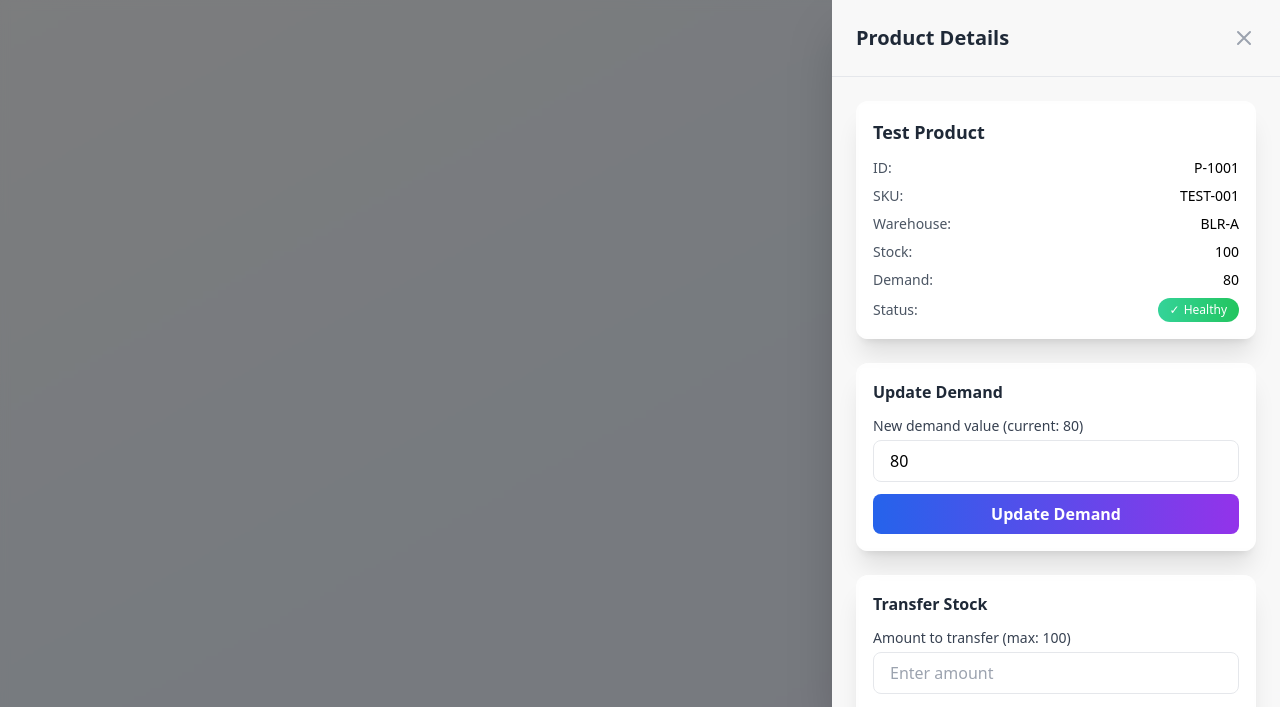
Test: Drawer › Form validation › should validate demand input
Replace the text in the number field labelled "New demand value (current: 80)" with "-10". click: (1056, 461)
box: [873,440,1239,482]
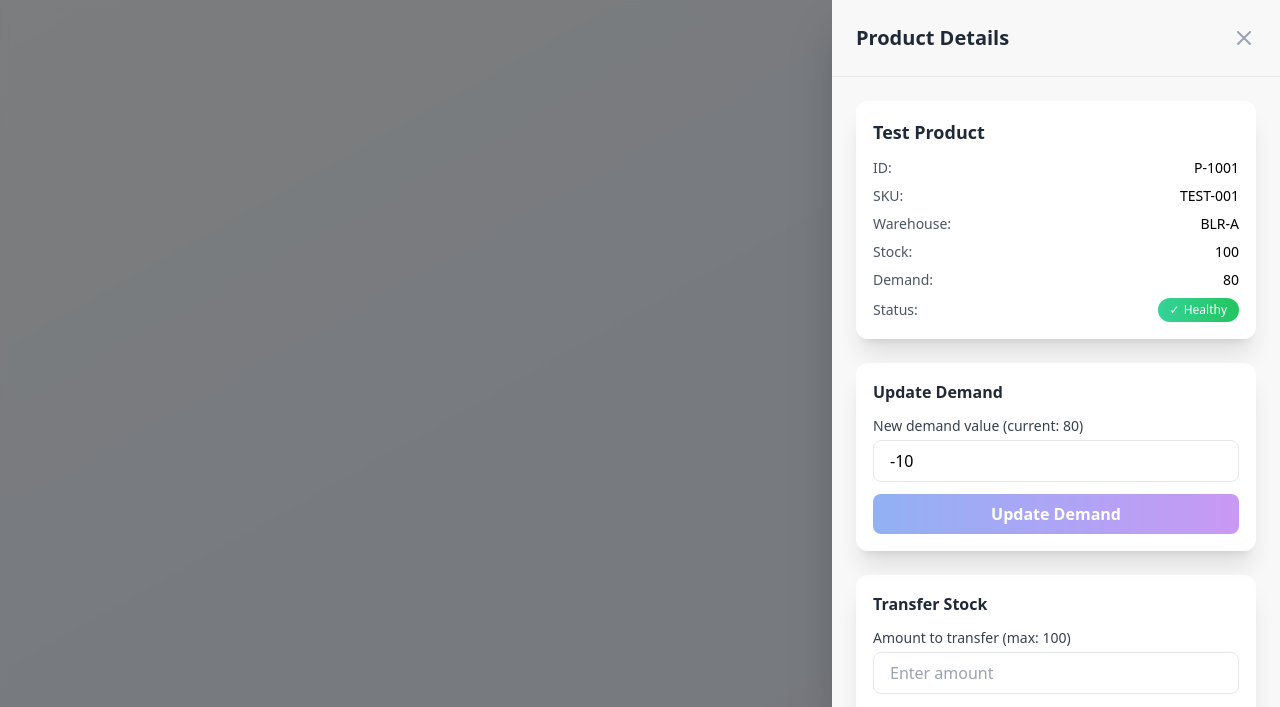
Now the button "Update Demand" is disabled, box [873,494,1239,534]
